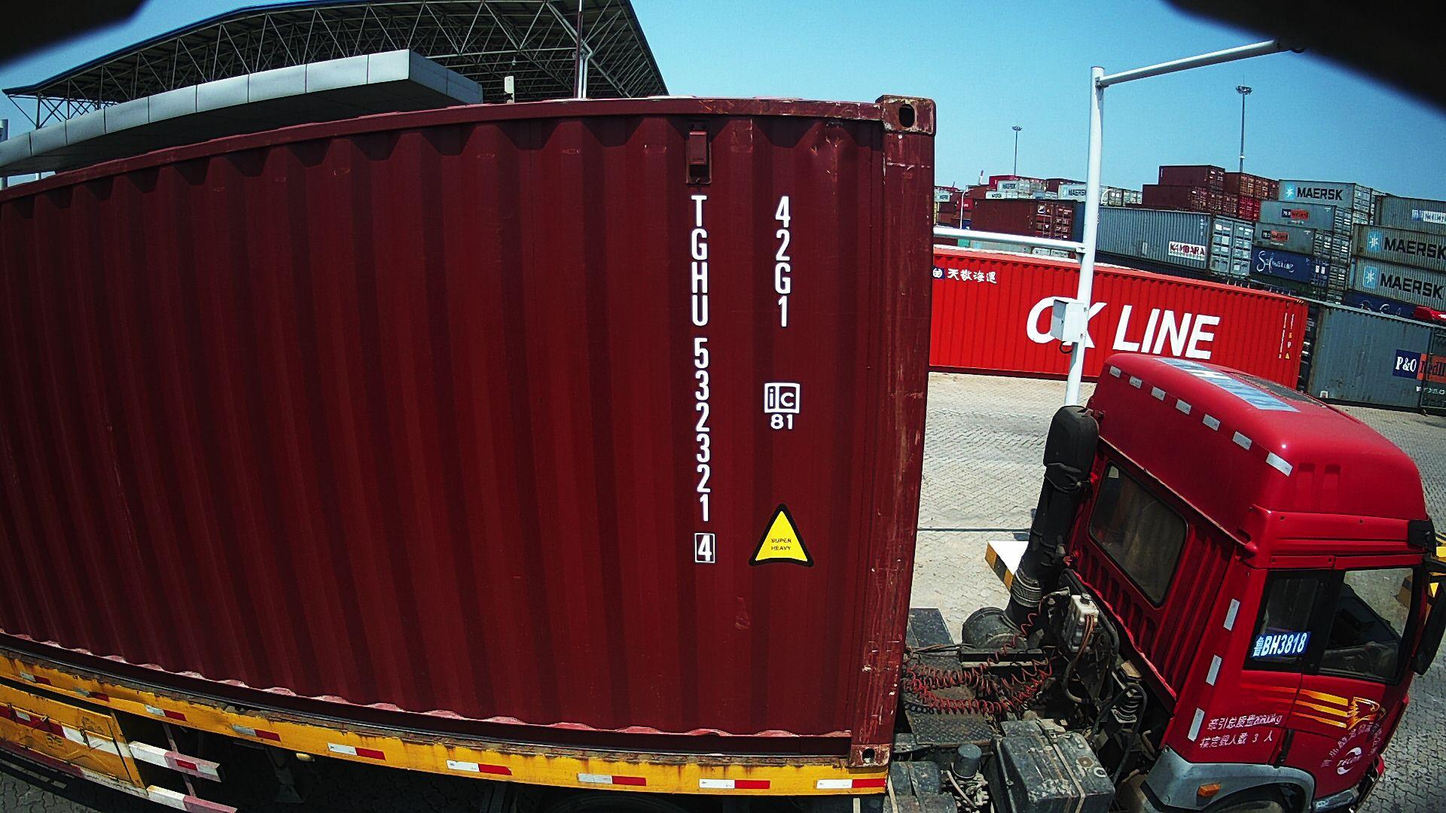container-numbers: (687, 191, 717, 567), (769, 191, 798, 333)
